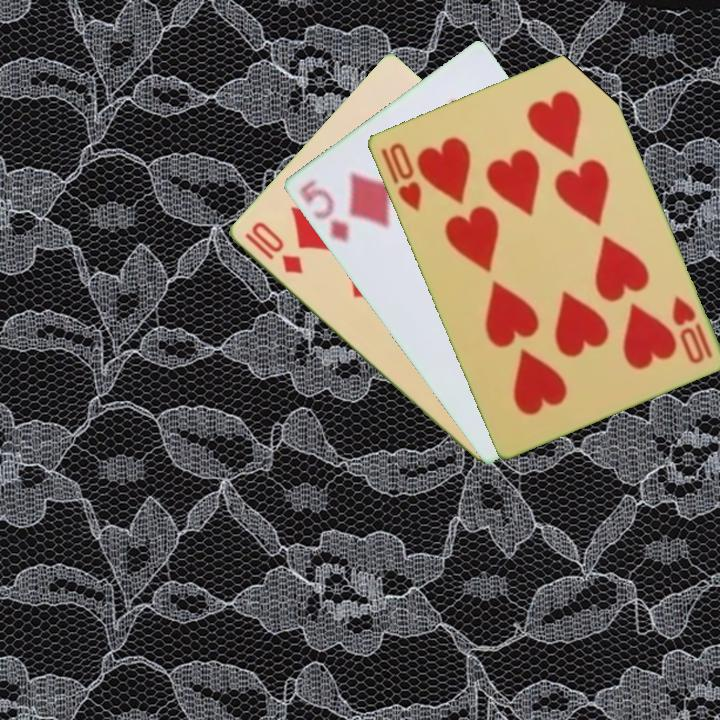10d: (240, 218, 306, 278)
10h: (376, 139, 424, 215), (668, 292, 715, 367)
5d: (295, 176, 352, 246)
